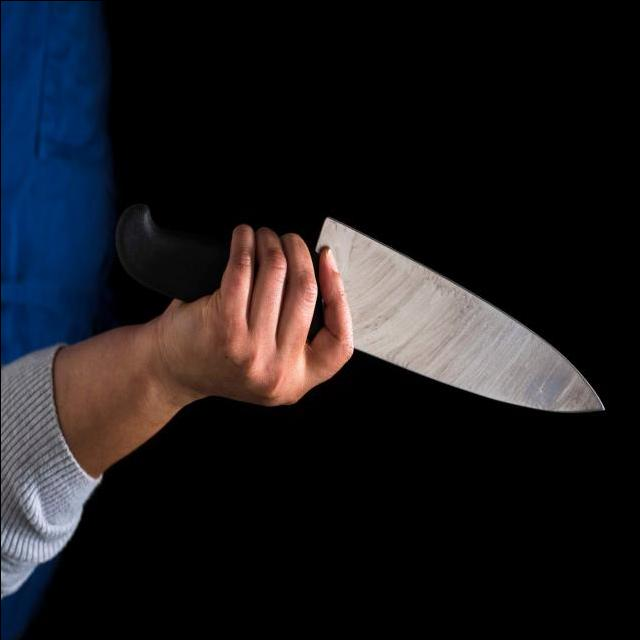knife: (141, 180, 610, 421)
